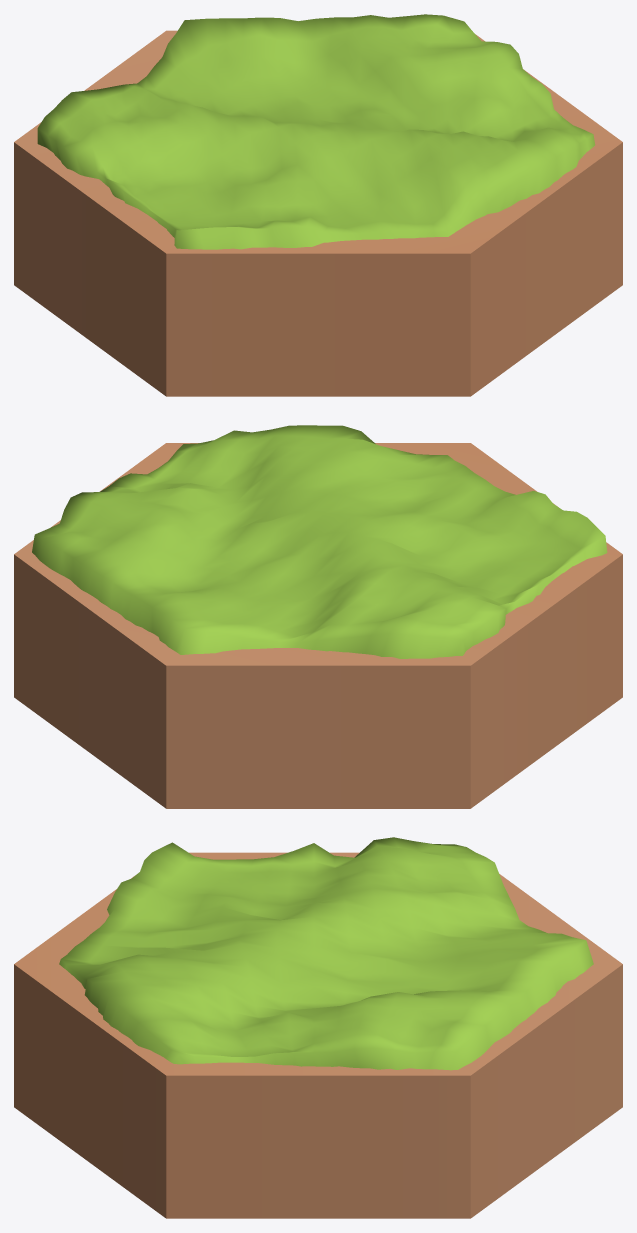
The model's file is Grass_Hex2.fbx.
The picture shows the model from 3 angles, top to bottom: view 1: azimuth 30°, elevation 25°; view 2: azimuth 150°, elevation 25°; view 3: azimuth 270°, elevation 25°; orthographic projection.
Parts seen in each view (by area): view 1: Ground_Hex2, Grass2; view 2: Ground_Hex2, Grass2; view 3: Ground_Hex2, Grass2.
Part boxes in pixels (box(x1,y1,x2,y2)): Ground_Hex2: box(14, 30, 622, 396); Grass2: box(37, 14, 595, 249); Ground_Hex2: box(14, 443, 622, 808); Grass2: box(32, 425, 607, 658); Ground_Hex2: box(14, 852, 622, 1218); Grass2: box(59, 837, 593, 1070).
Bounding box in the file's own units: 20.05 × 7.15 × 23.15.
Materials: 1 (1 with a texture image).
